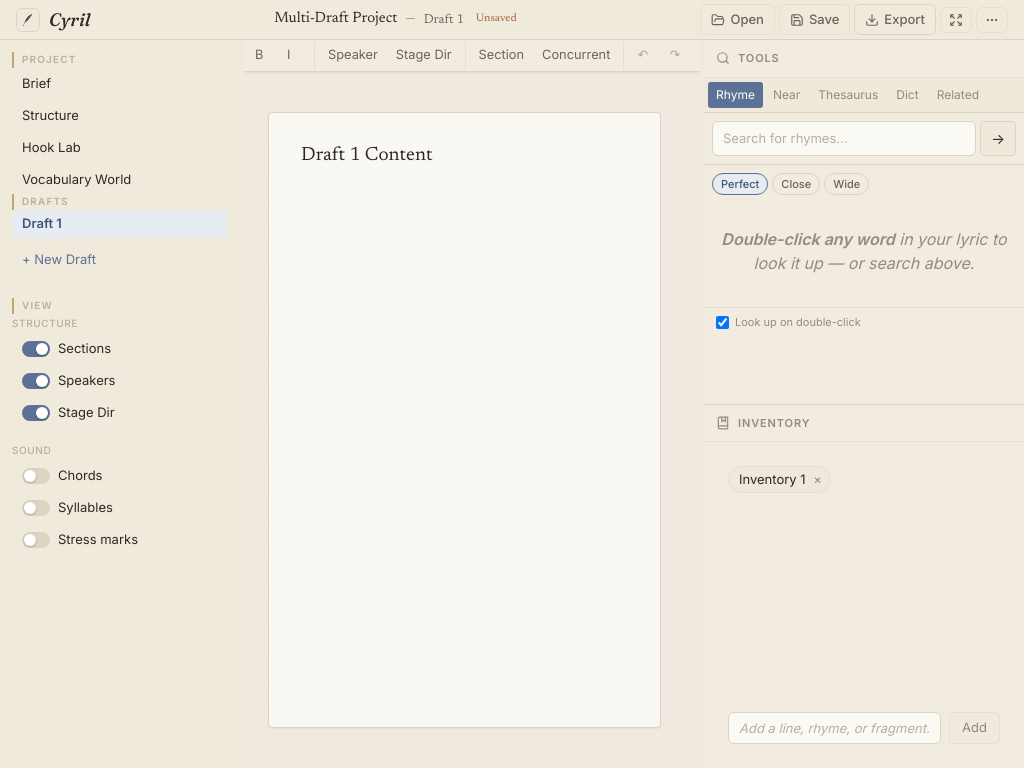
Test: Workspaces and Drafts Integration › T-3.06: Duplicate text only works
Click the button "+ New Draft" at x=59, y=259, box [22, 251, 96, 267]
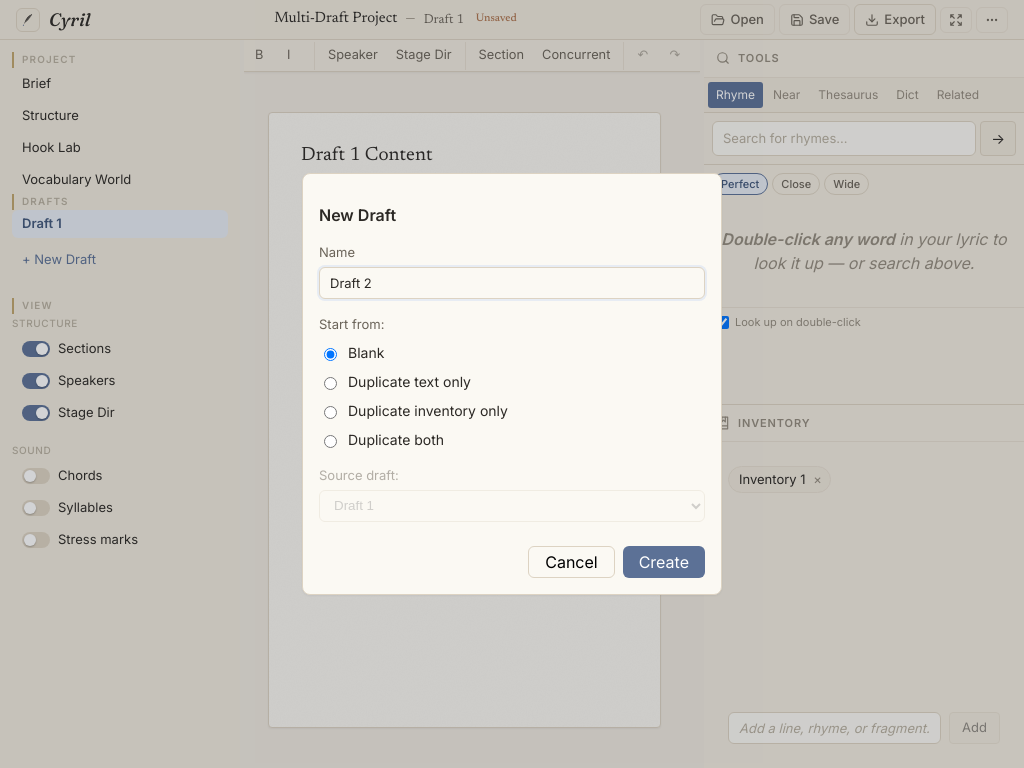
Click the radio button labelled "Duplicate text only" at x=330, y=383, box [324, 377, 337, 390]
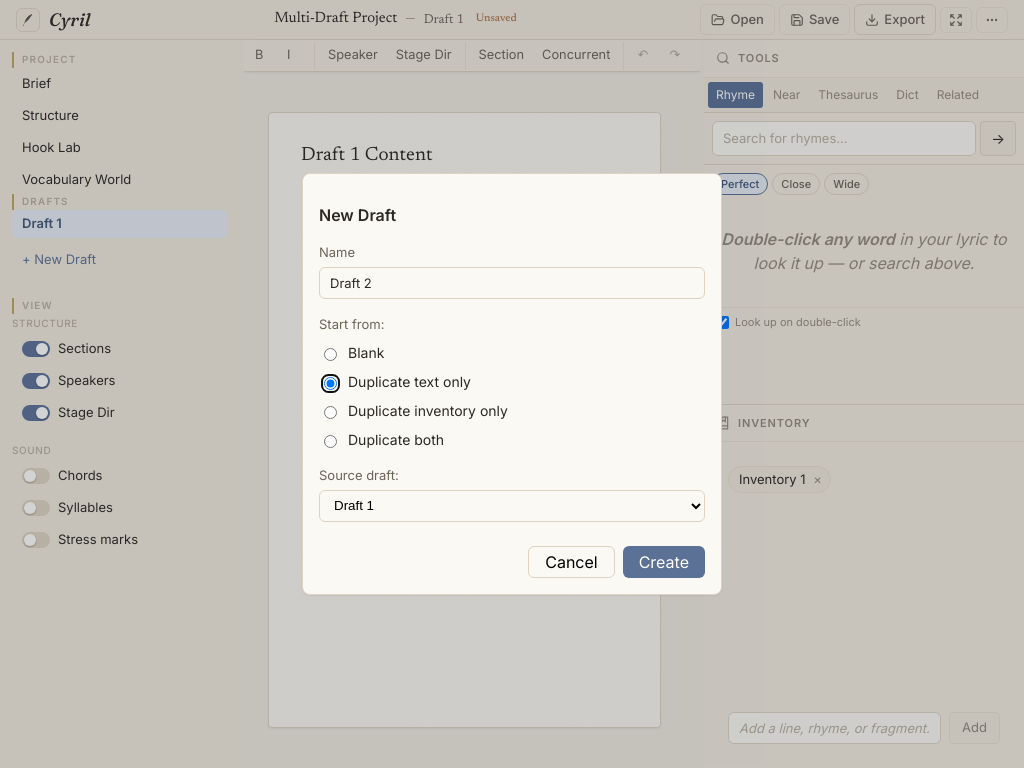
Click the button "Create" at x=664, y=562, box [623, 546, 705, 578]
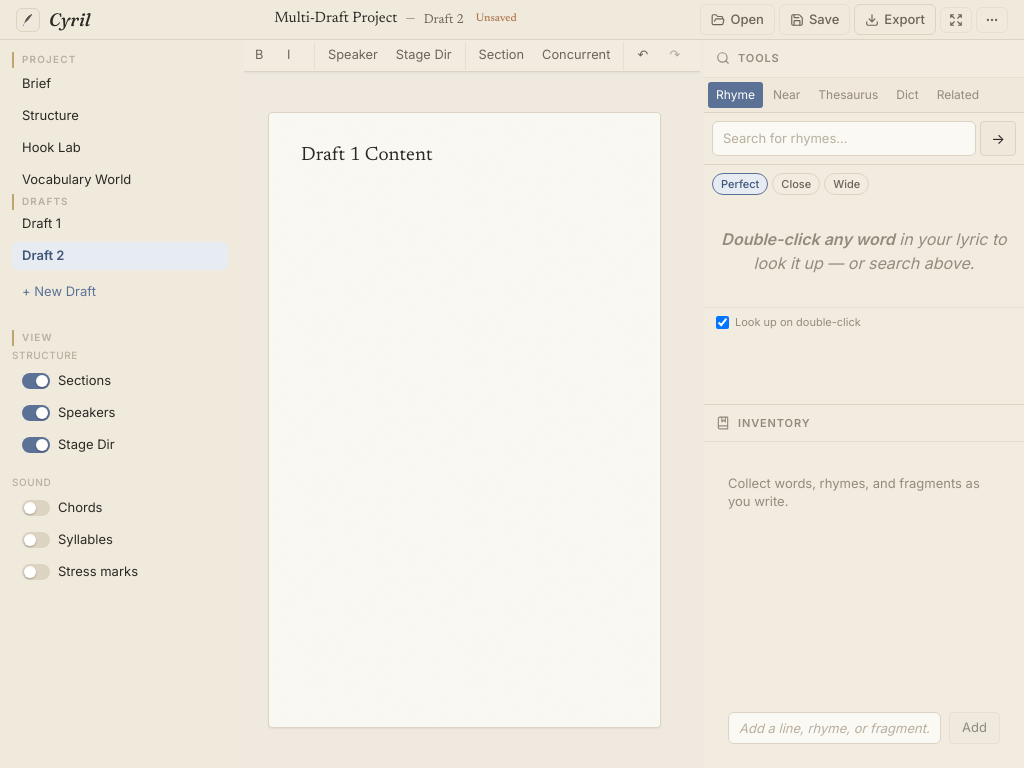
Expected: the text box "Draft 1 Content" is shown, [301, 146, 433, 165]
Result: the text with test id "topbar-draft-name" reads "Draft 2" at [424, 13, 464, 26]
